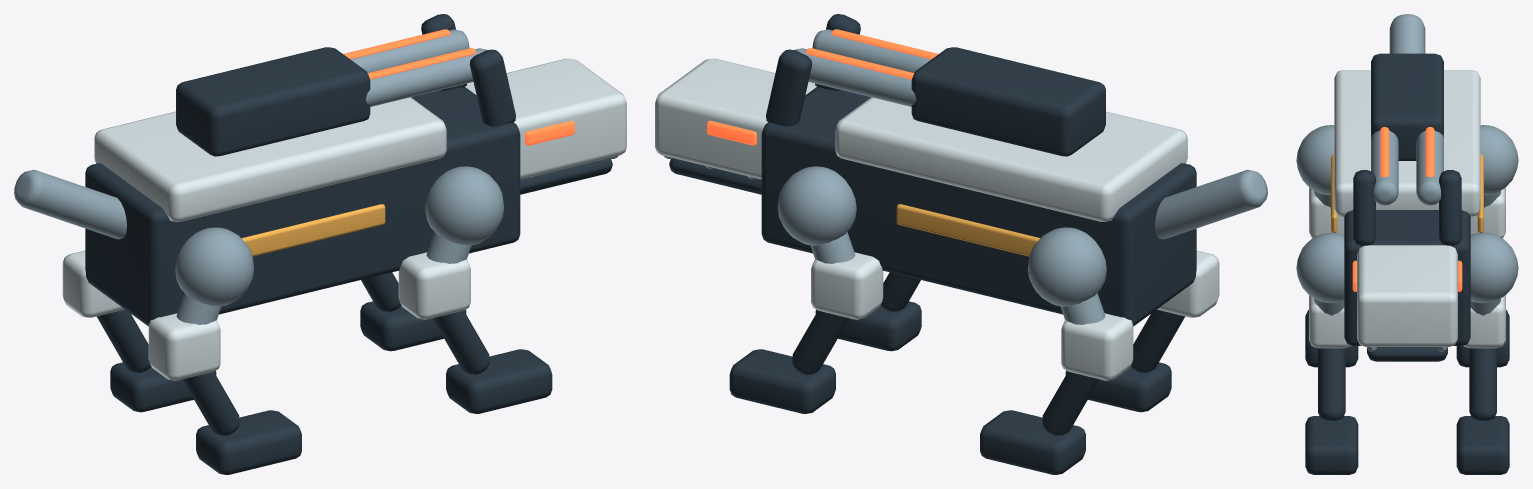
The model's file is hound.glb.
3 renders of one model, left to right at view 1: azimuth 30°, elevation 25°; view 2: azimuth 150°, elevation 25°; view 3: azimuth 270°, elevation 25°, orthographic. The views are drawn at different scales.
Parts seen in each view (by area): view 1: Armored spine, Pearl back plating, Rail receiver, Wedge muzzle, Exposed hip actuator.001, Exposed hip actuator, Magnetic paw.001, Magnetic paw, Segmented tail, Knee shield, Knee shield.001, Side amber identification (+16 smaller); view 2: Armored spine, Pearl back plating, Rail receiver, Wedge muzzle, Exposed hip actuator.003, Exposed hip actuator.002, Magnetic paw.003, Magnetic paw.002, Segmented tail, Knee shield.002, Knee shield.003, Side amber identification.001 (+16 smaller); view 3: Pearl back plating, Wedge muzzle, Rail receiver, Armored spine, Magnetic paw.003, Magnetic paw.001, Exposed hip actuator.003, Exposed hip actuator.001, Exposed hip actuator.002, Exposed hip actuator, Reverse joint shin.003, Reverse joint shin.001 (+18 smaller).
Part boxes in pixels (box(x1,y1,x2,y2)): Armored spine: box(85, 87, 520, 326); Pearl back plating: box(94, 97, 446, 221); Rail receiver: box(176, 47, 370, 156); Wedge muzzle: box(465, 58, 626, 179); Exposed hip actuator.001: box(425, 166, 504, 245); Exposed hip actuator: box(175, 227, 253, 306); Magnetic paw.001: box(446, 349, 552, 413); Magnetic paw: box(196, 410, 301, 474); Segmented tail: box(14, 169, 126, 239); Knee shield: box(148, 313, 220, 380); Knee shield.001: box(398, 252, 470, 319); Side amber identification: box(241, 204, 385, 256); Armored spine: box(761, 87, 1196, 326); Pearl back plating: box(835, 97, 1187, 221); Rail receiver: box(911, 47, 1105, 156); Wedge muzzle: box(655, 58, 816, 179); Exposed hip actuator.003: box(777, 166, 856, 245); Exposed hip actuator.002: box(1028, 227, 1106, 306); Magnetic paw.003: box(729, 349, 835, 413); Magnetic paw.002: box(980, 410, 1085, 474); Segmented tail: box(1155, 169, 1267, 239); Knee shield.002: box(1061, 313, 1133, 380); Knee shield.003: box(811, 252, 883, 319); Side amber identification.001: box(896, 204, 1040, 256); Pearl back plating: box(1334, 70, 1480, 216); Wedge muzzle: box(1357, 245, 1457, 346); Rail receiver: box(1371, 53, 1443, 160); Armored spine: box(1344, 210, 1470, 345); Magnetic paw.003: box(1456, 416, 1509, 474); Magnetic paw.001: box(1305, 416, 1358, 474); Exposed hip actuator.003: box(1470, 232, 1518, 303); Exposed hip actuator.001: box(1296, 232, 1344, 303); Exposed hip actuator.002: box(1480, 125, 1518, 195); Exposed hip actuator: box(1296, 125, 1334, 195); Reverse joint shin.003: box(1469, 348, 1496, 420); Reverse joint shin.001: box(1318, 348, 1345, 420).
Size of the model in its own units: 2.36 by 1.29 by 0.88.
